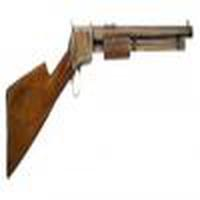gun: (3, 22, 196, 182)
